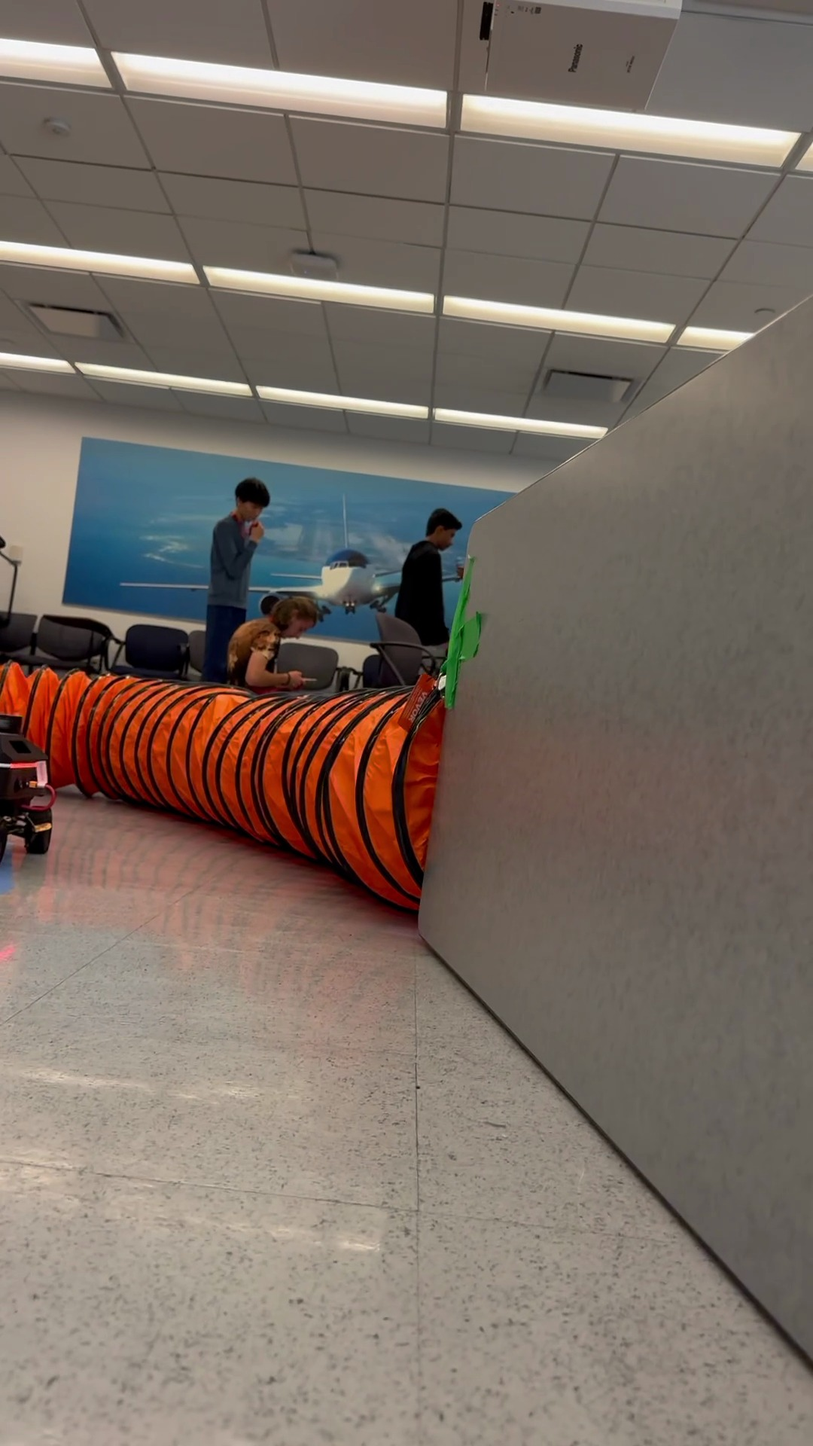racecar: (0, 702, 57, 871)
